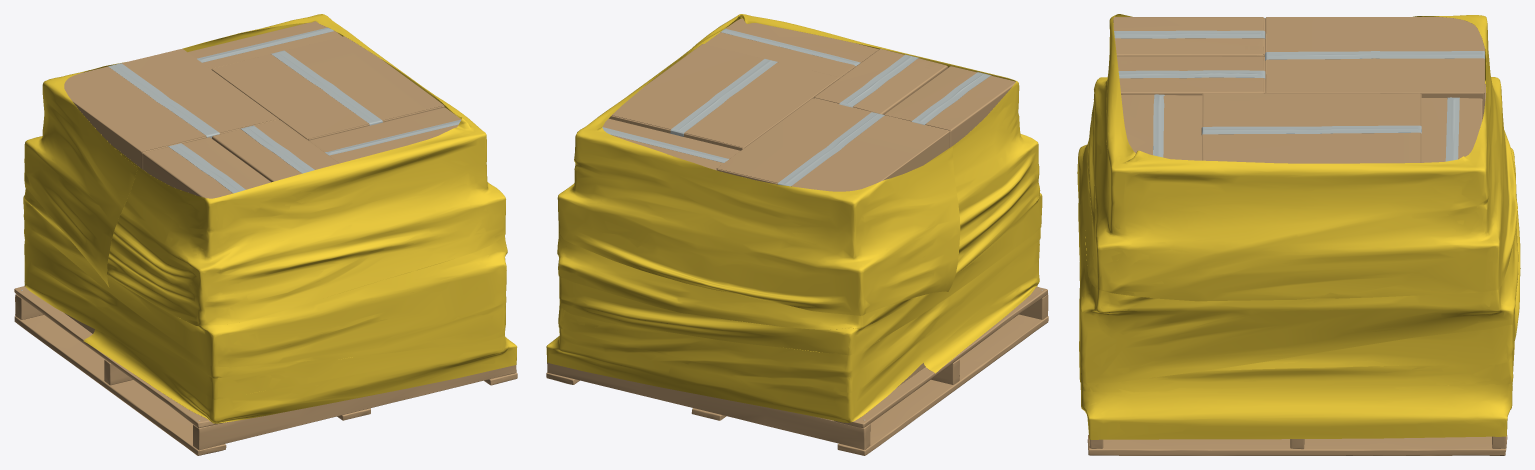
The model's file is pallet_assembly_yellow_a04.glb.
3 renders of one model, left to right at view 1: azimuth 30°, elevation 25°; view 2: azimuth 150°, elevation 25°; view 3: azimuth 270°, elevation 25°, orthographic. The views are drawn at different scales.
Bounding box in the file's own units: 1.19 × 0.9022 × 1.26.
